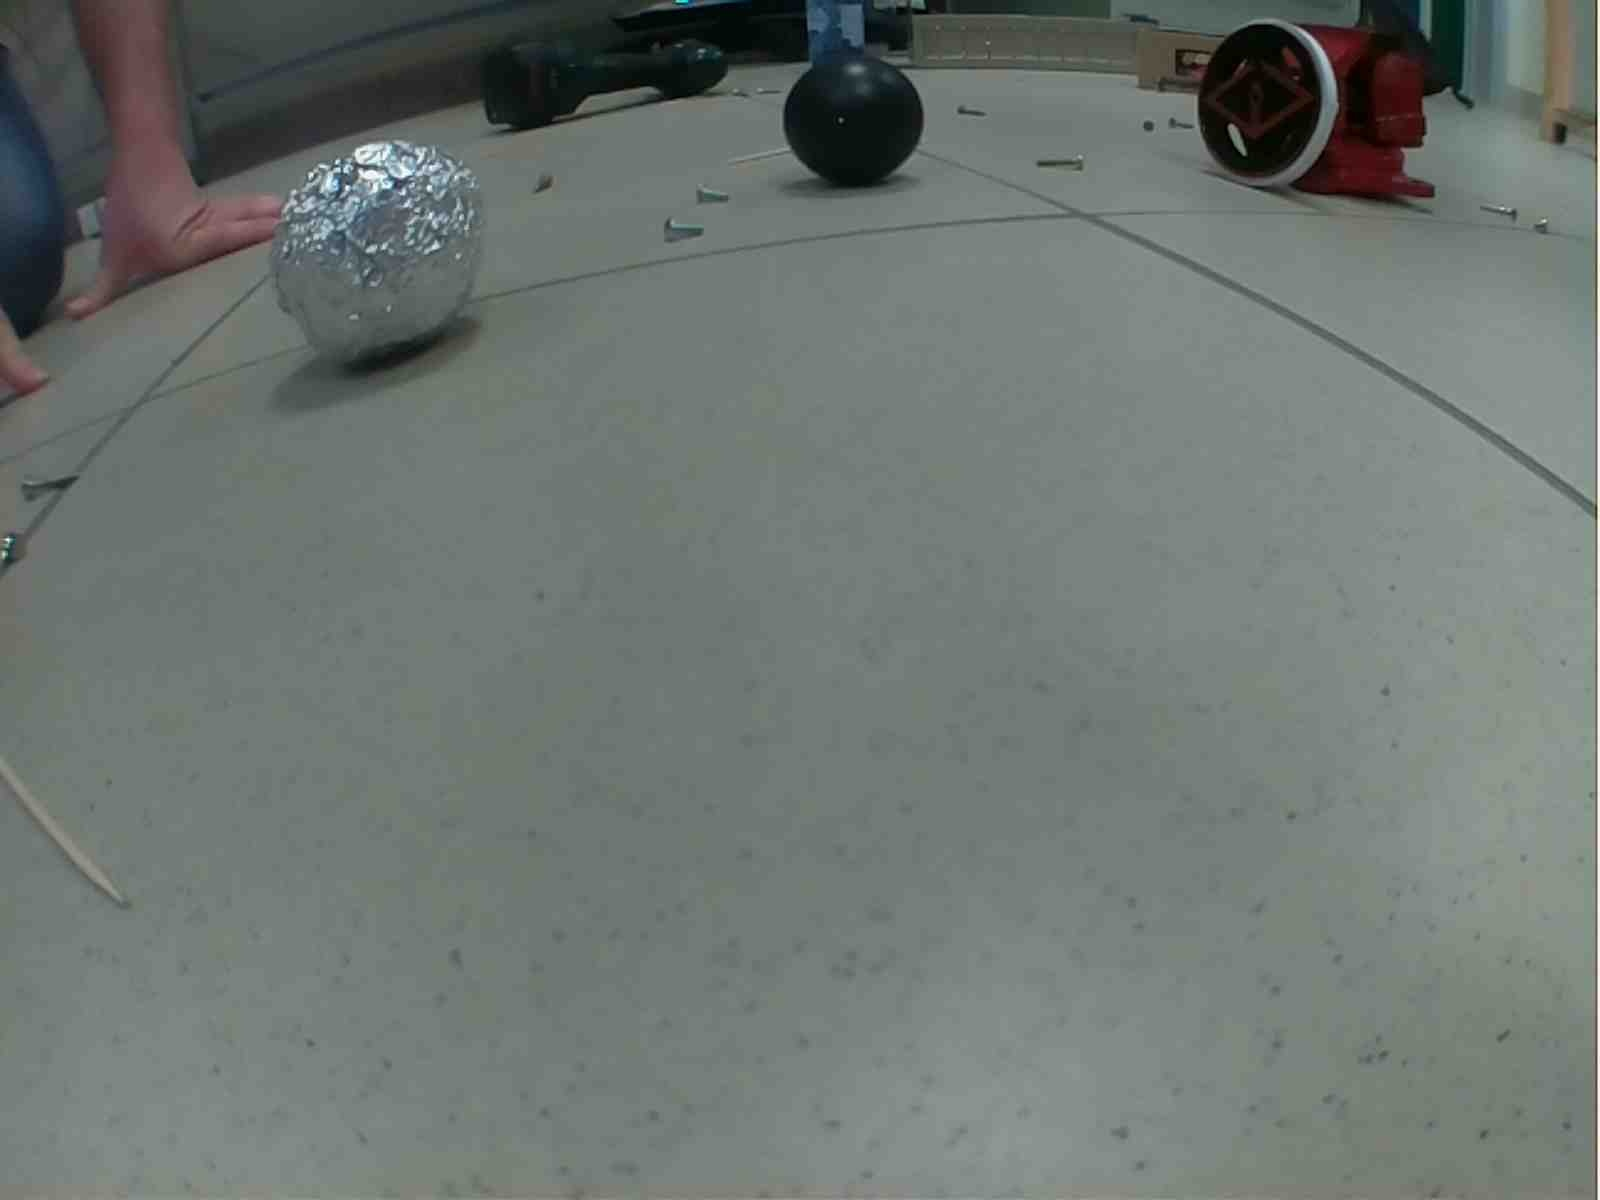bianca: (267, 137, 488, 363)
nera: (782, 52, 926, 192)
